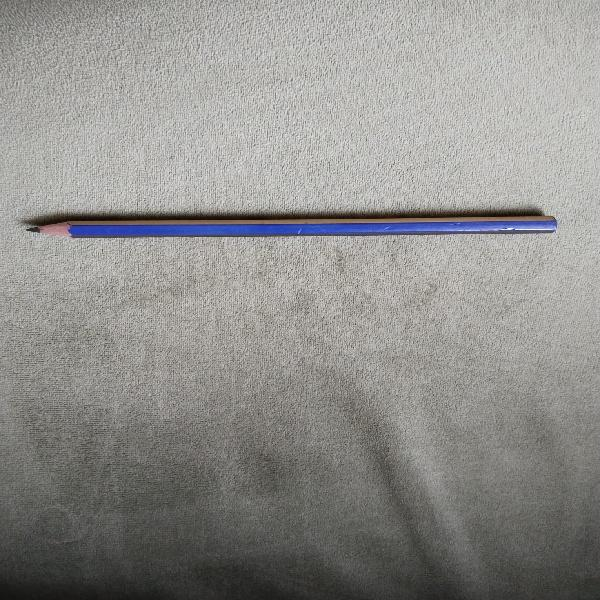pencil: (29, 215, 556, 238)
